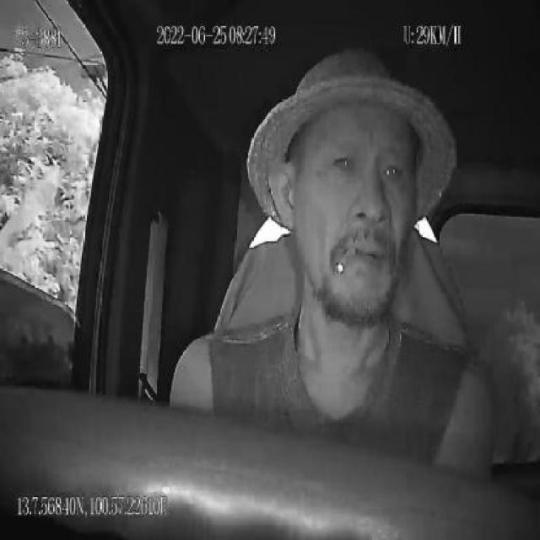smoking: (334, 240, 358, 279)
